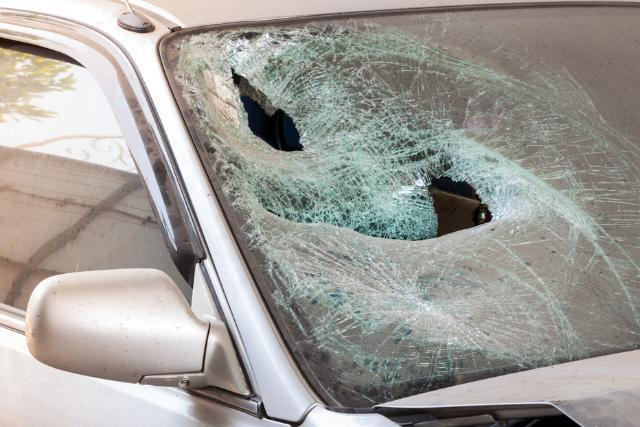Windshield: (179, 15, 638, 391)
